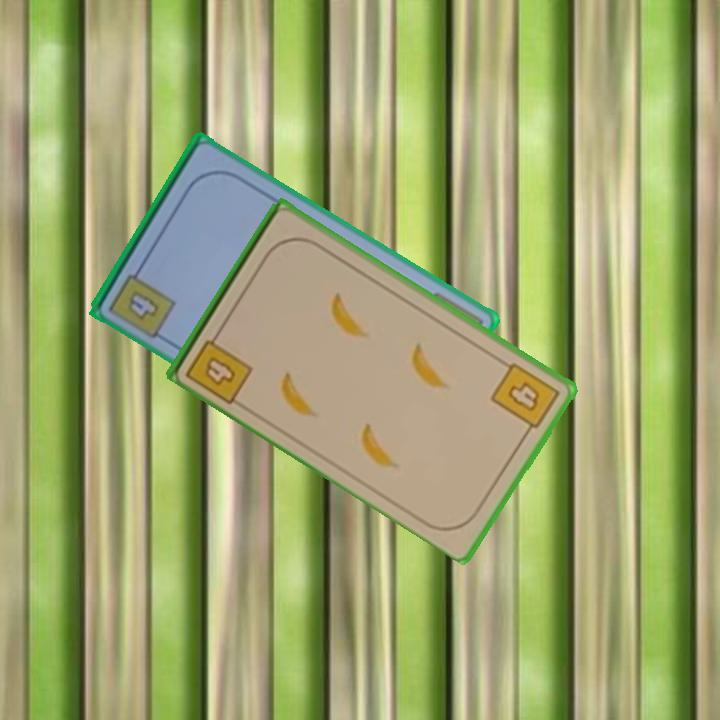4b: (486, 358, 563, 439), (181, 325, 256, 407), (124, 286, 163, 323)
